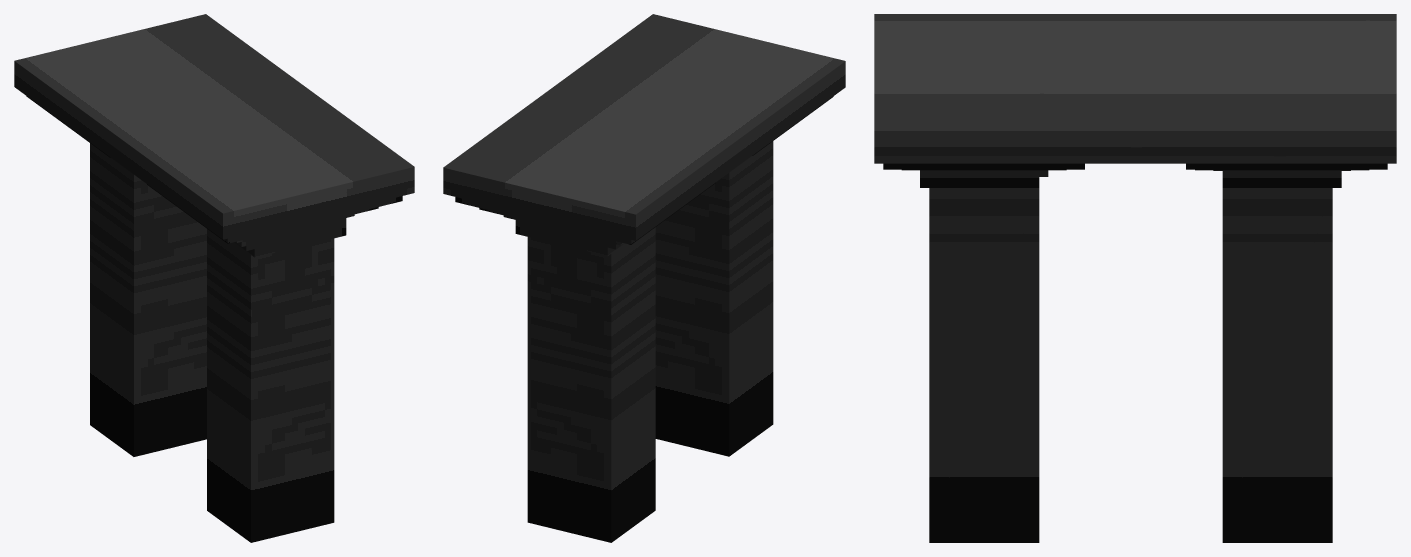
File: double pillar.glb
3 renders of one model, left to right at view 1: azimuth 30°, elevation 25°; view 2: azimuth 150°, elevation 25°; view 3: azimuth 270°, elevation 25°, orthographic. The views are drawn at different scales.
Visible parts, largest first — view 1: double pillar; view 2: double pillar; view 3: double pillar.
Boxes of the visible parts, bbox=[...] form: double pillar: bbox=[14, 14, 414, 542]; double pillar: bbox=[443, 14, 845, 542]; double pillar: bbox=[874, 14, 1396, 542].
Bounding box in the file's own units: 0.157 × 0.2799 × 0.2961.
Materials: 1 (1 with a texture image).
